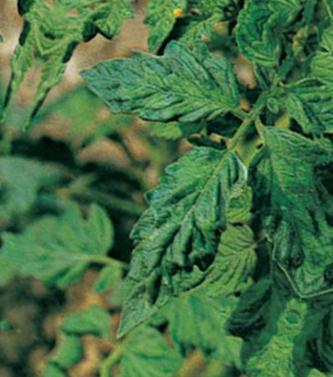Tomato leaf mosaic virus: (93, 131, 263, 359), (77, 14, 251, 159), (204, 115, 333, 300), (199, 261, 308, 377), (259, 72, 333, 151), (221, 15, 297, 83)
